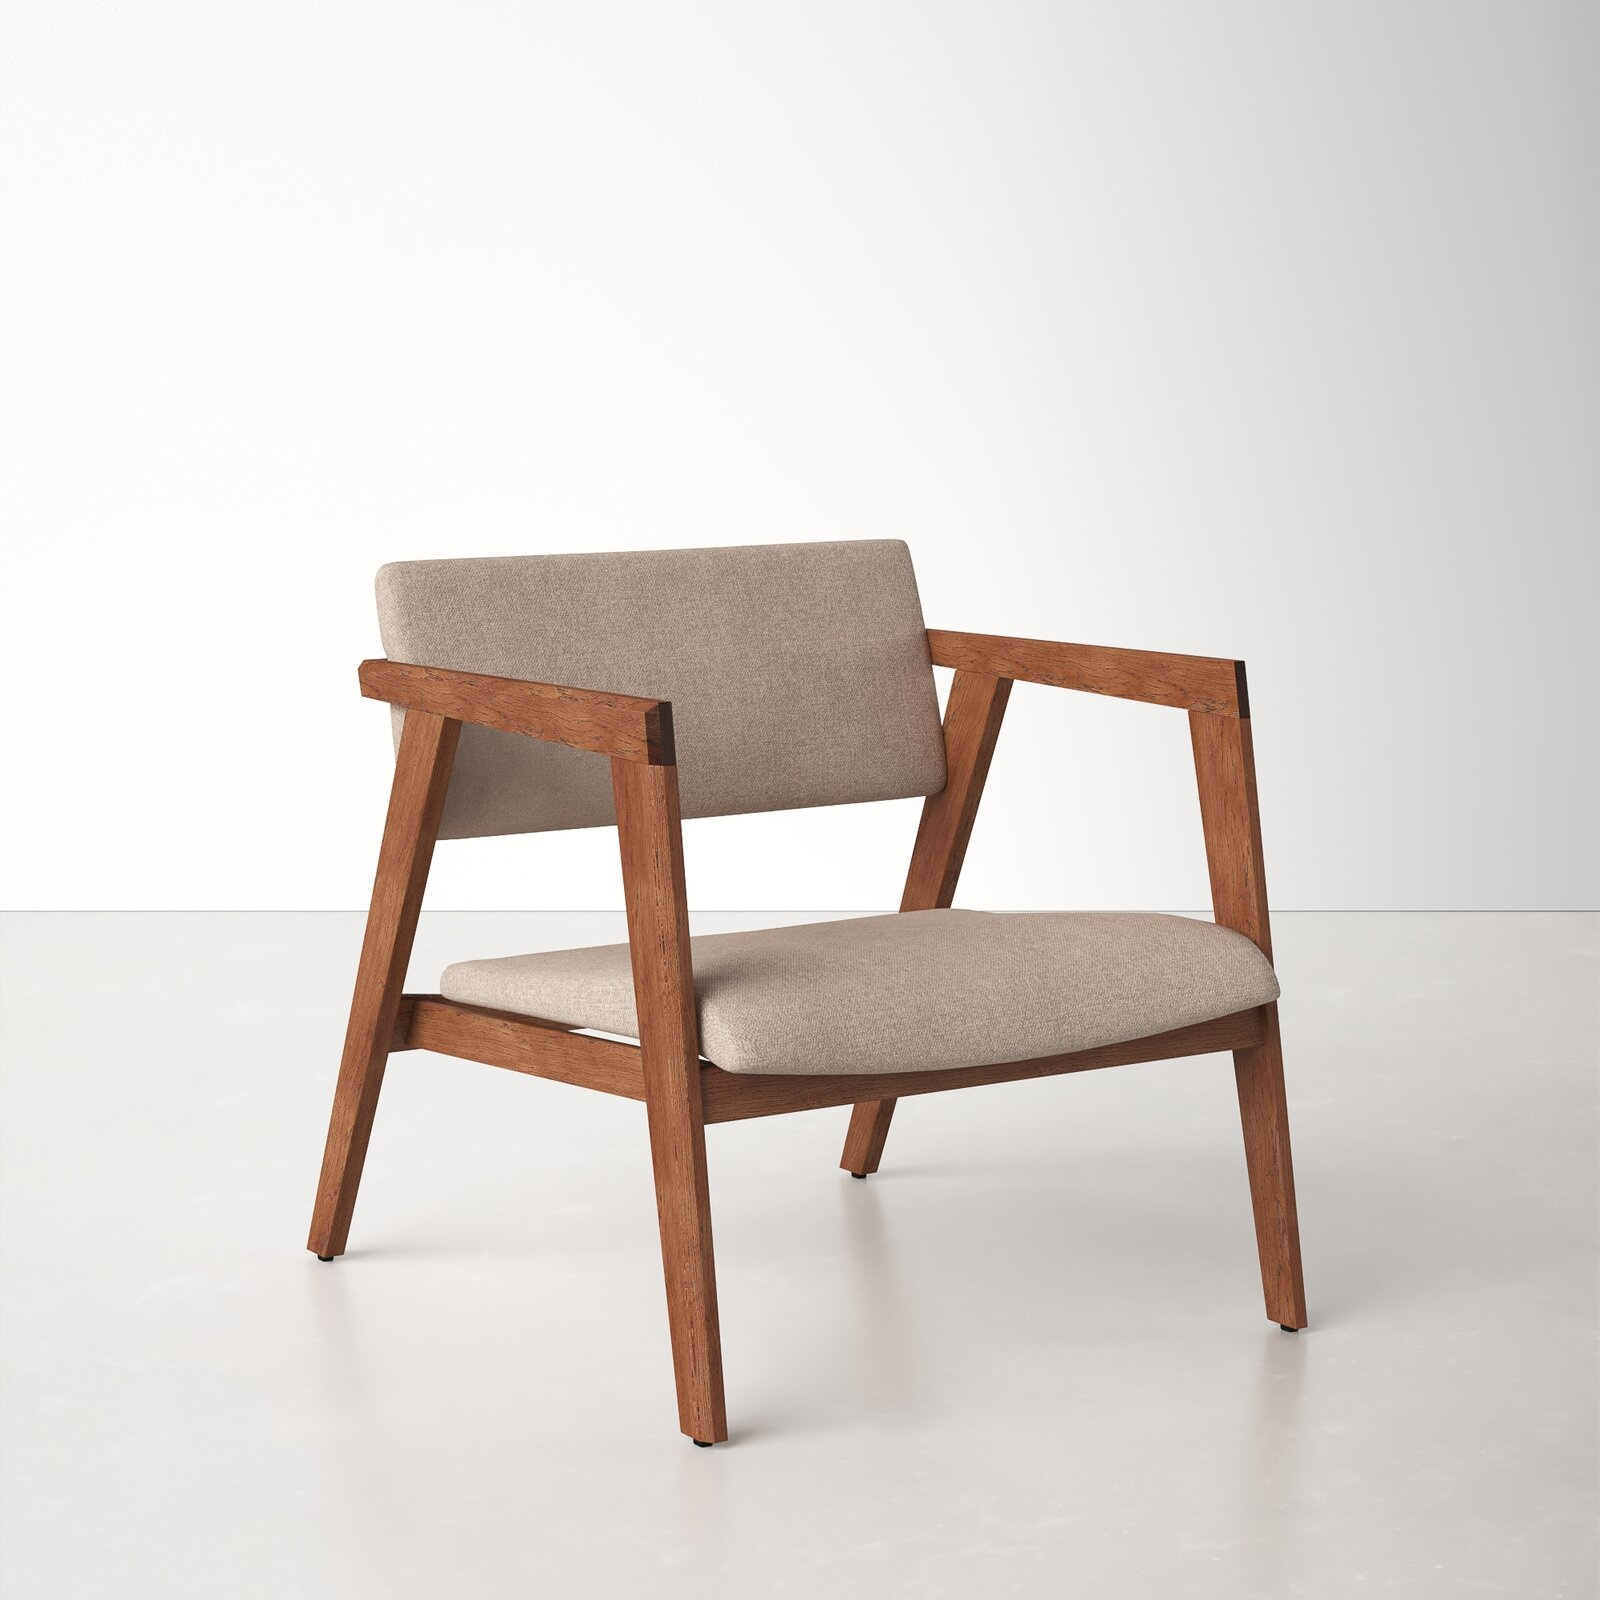obstacle: (309, 541, 1305, 1445)
